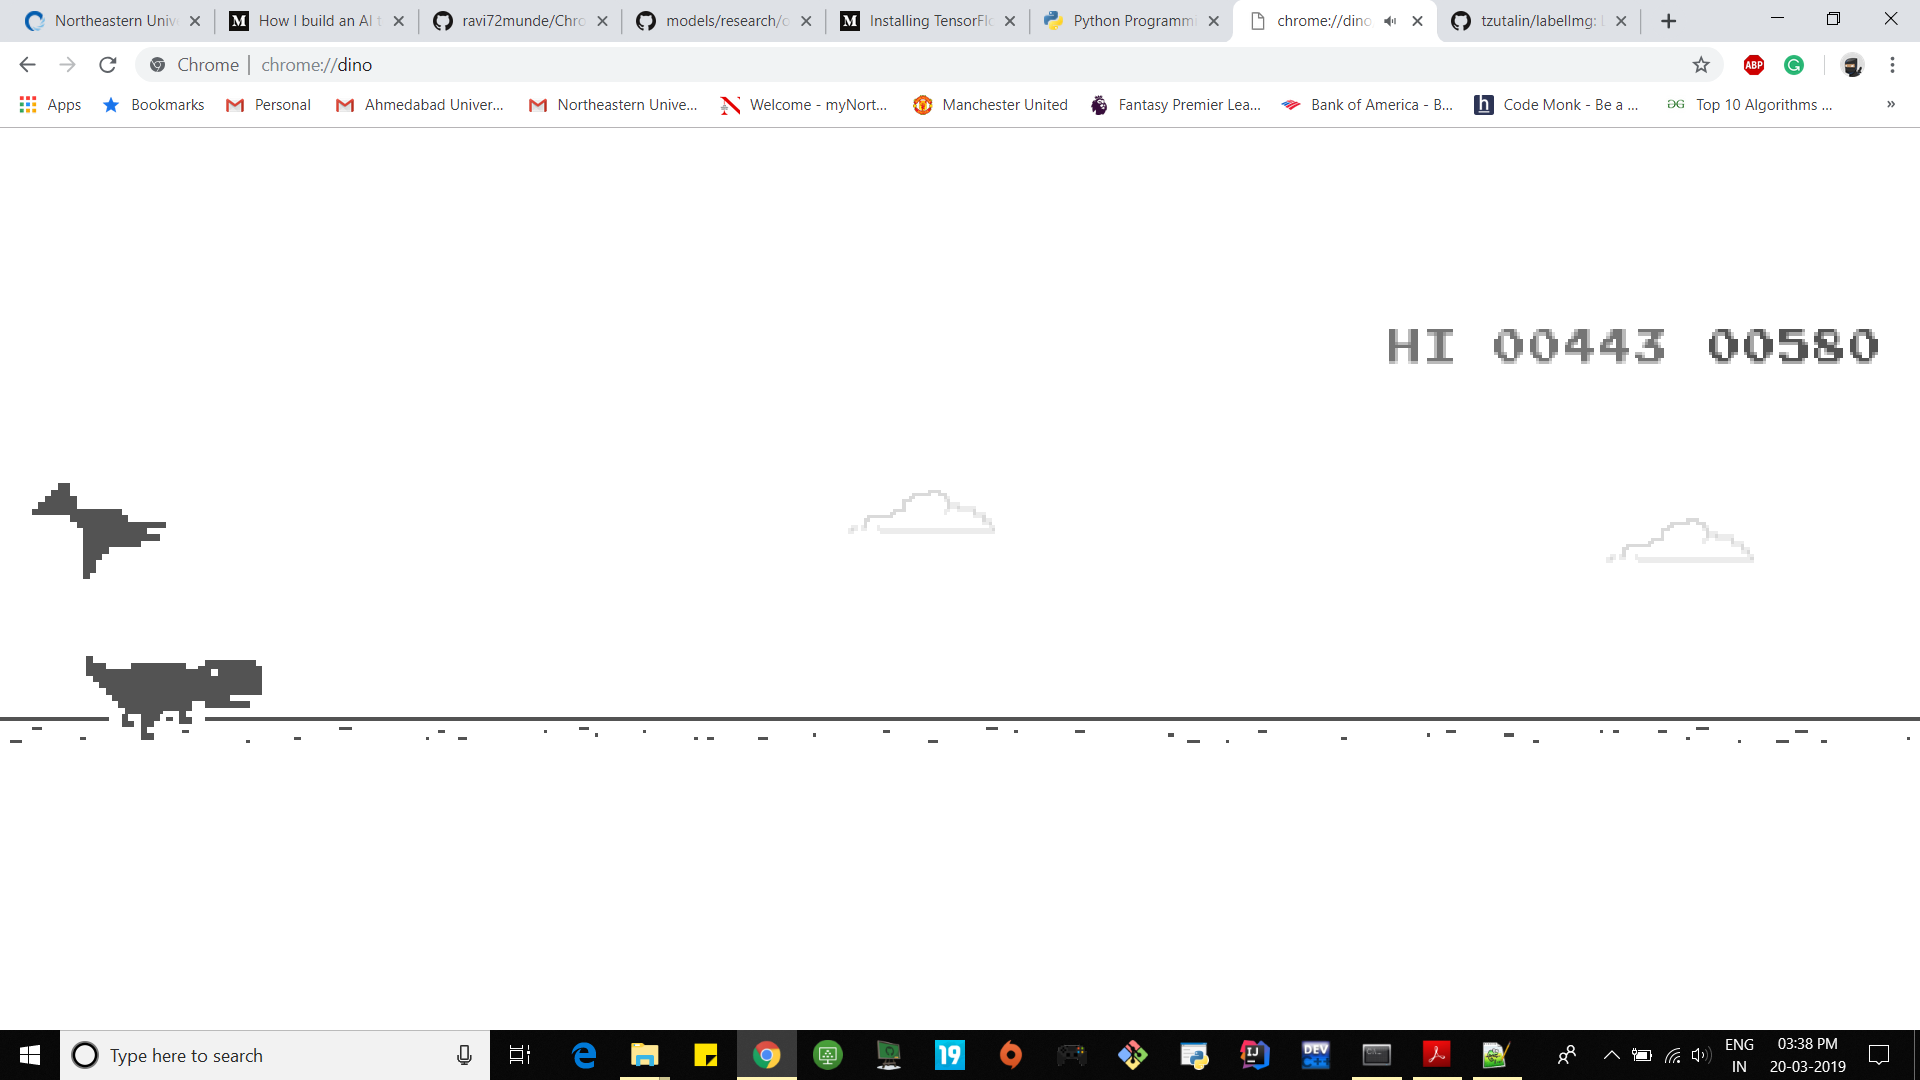bird: (29, 479, 169, 582)
dino: (83, 655, 266, 742)
